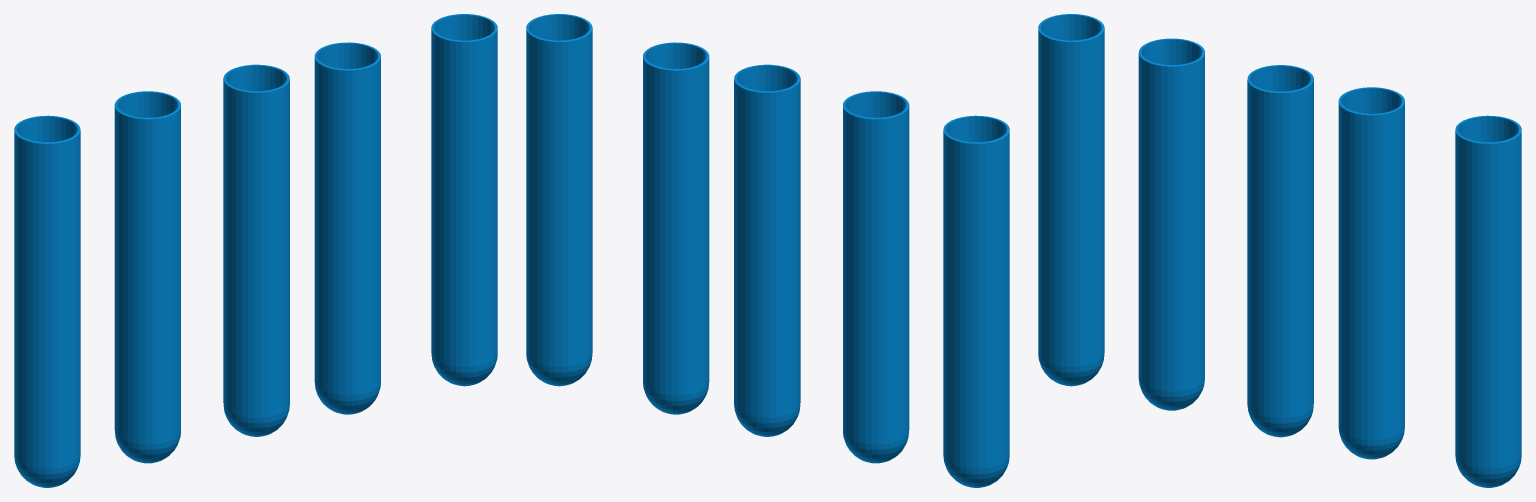
The picture shows the model from 3 angles, left to right: view 1: azimuth 30°, elevation 25°; view 2: azimuth 150°, elevation 25°; view 3: azimuth 330°, elevation 25°; orthographic projection.
Parts seen in each view (by area): view 1: Sphère; view 2: Sphère; view 3: Sphère.
Boxes of the visible parts, x1,y1,x2,y2 form: Sphère: (14,14,497,487); Sphère: (526,14,1009,487); Sphère: (1038,14,1521,487).
Size of the model in its own units: 0.7376 by 0.5274 by 0.0895.
